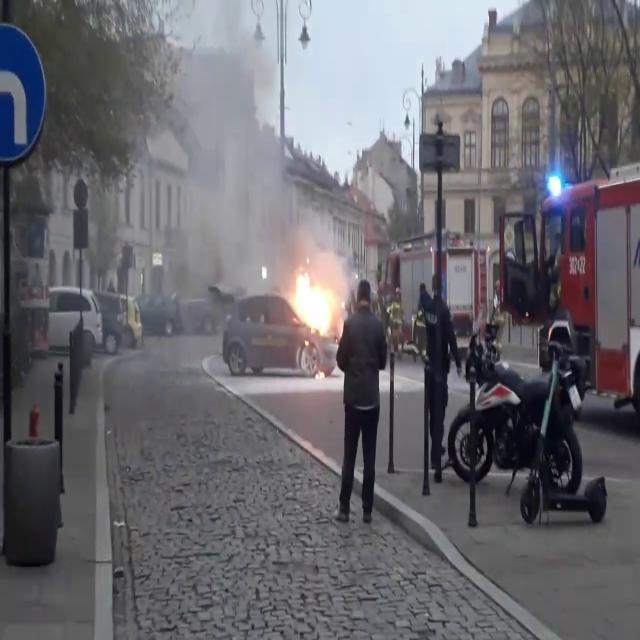Fire: (286, 260, 344, 344)
Smoke: (144, 1, 322, 298)
